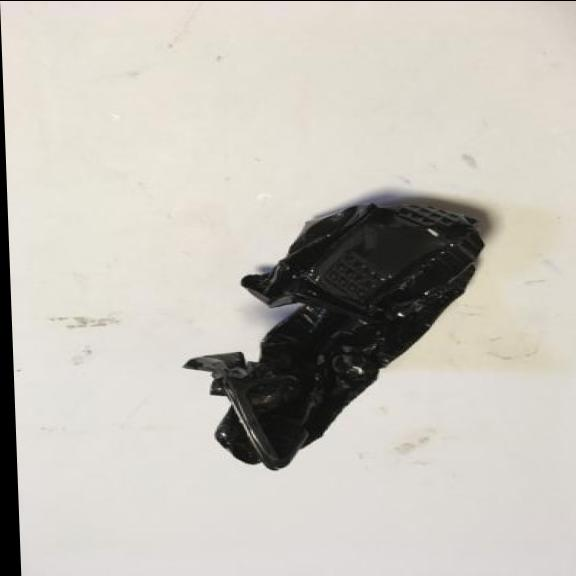Plastik: (169, 191, 505, 472)
